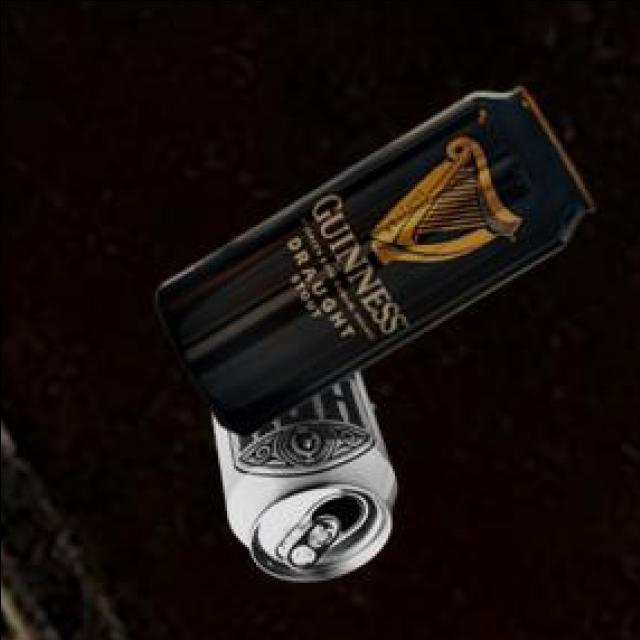logam: (151, 82, 590, 431), (209, 366, 393, 576)
